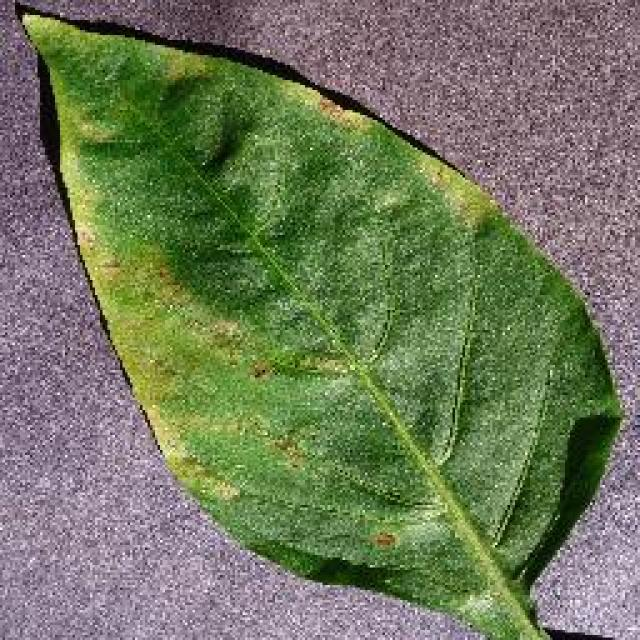Chilli_Bacterial_Spot: (12, 0, 628, 638), (158, 440, 242, 508), (245, 343, 357, 385), (310, 90, 370, 130), (368, 525, 400, 553), (245, 355, 273, 383)
